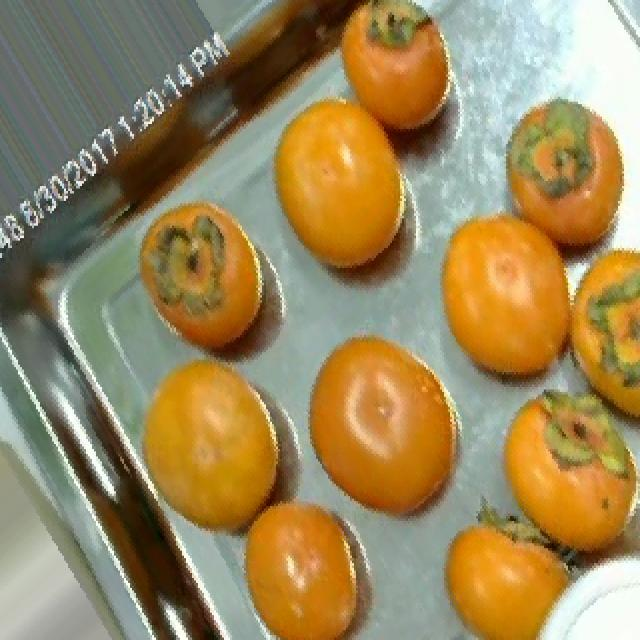Fruit: (286, 317, 478, 541), (250, 72, 432, 303), (116, 176, 290, 387), (482, 367, 640, 571), (488, 79, 640, 278), (220, 476, 386, 640), (320, 0, 474, 159), (426, 503, 588, 640), (564, 223, 640, 407)
